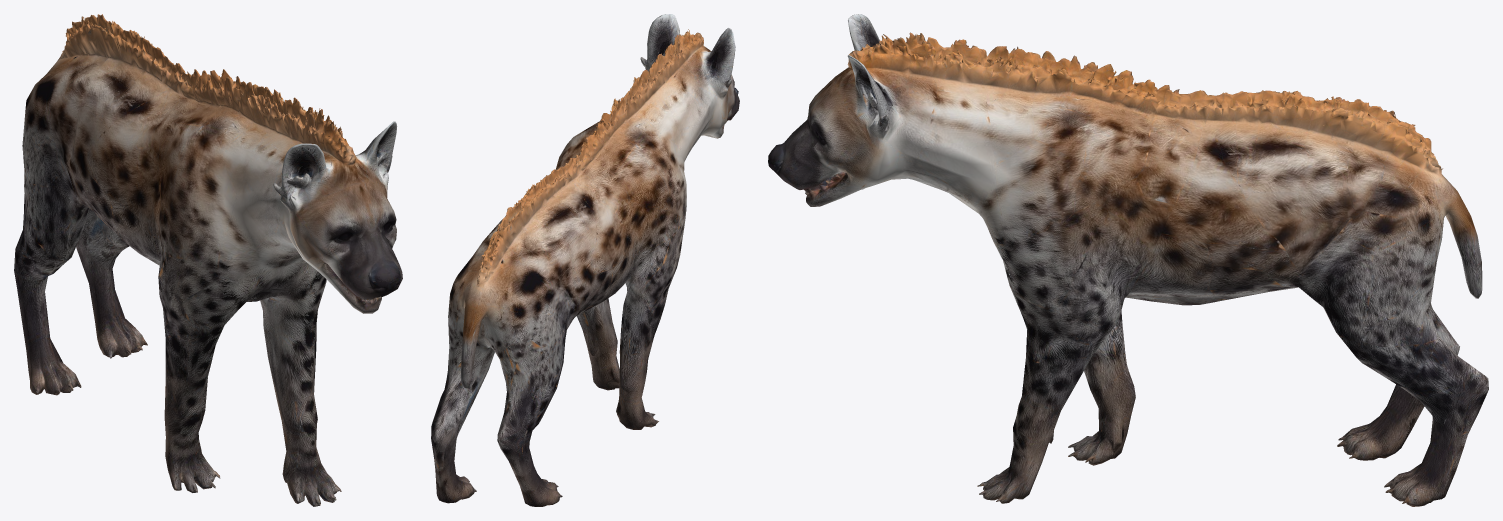
File: giant-hyena.glb
3 views of the same model, side by side, from view 1: azimuth 30°, elevation 25°; view 2: azimuth 150°, elevation 25°; view 3: azimuth 270°, elevation 25° (orthographic). The views are drawn at different scales.
Bounding box in the file's own units: 0.4619 × 1.29 × 1.9.
Materials: 1 (1 with a texture image).
